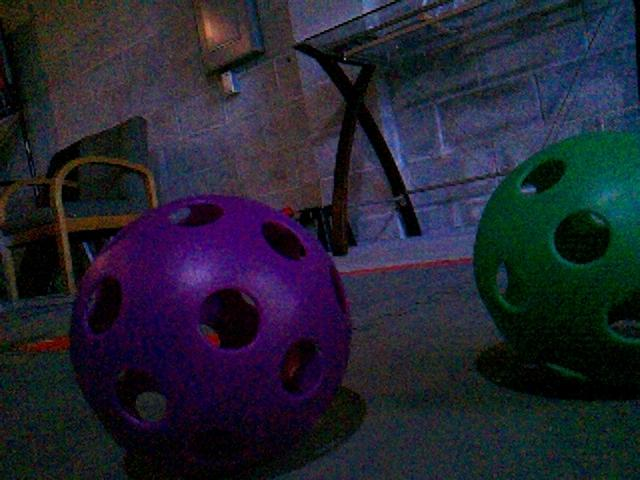Green: (471, 130, 640, 388)
Purple: (68, 195, 355, 474)
